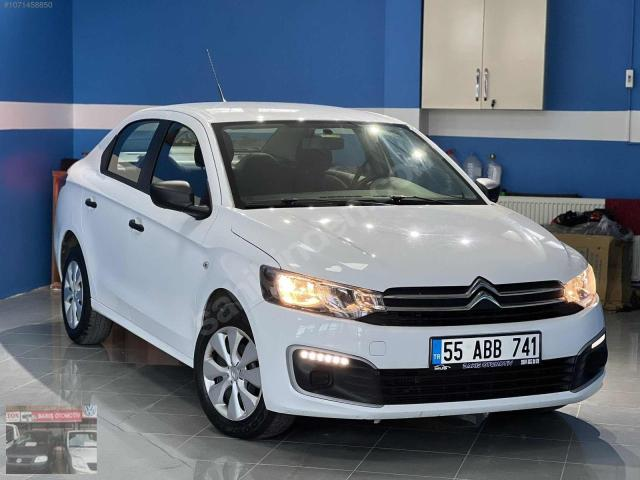plaka: (431, 332, 541, 368)
